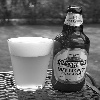beer: (7, 38, 54, 93)
